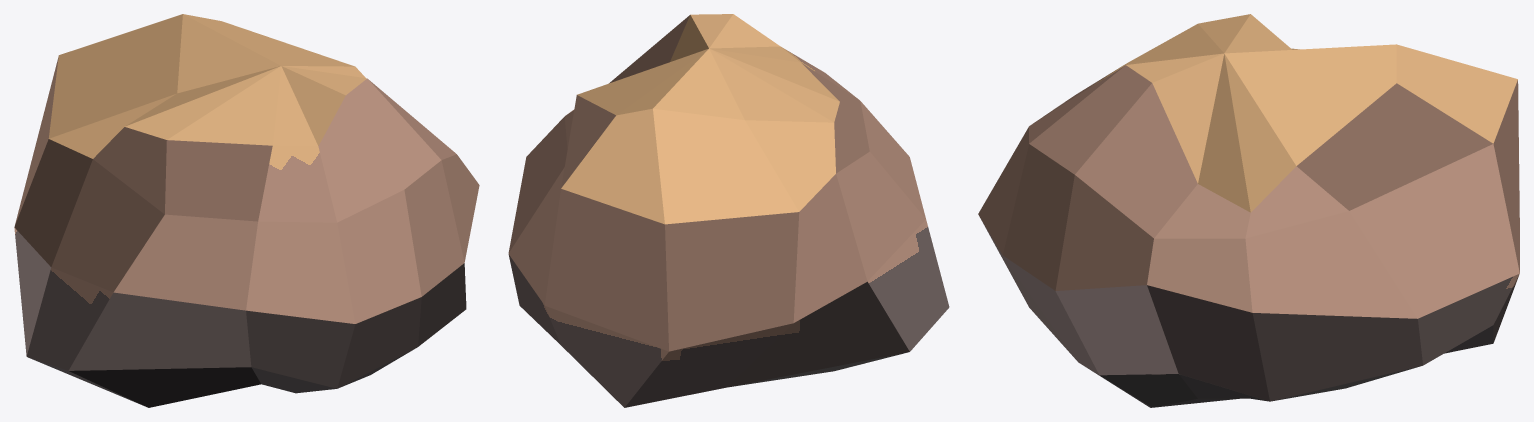
Rendered from Asteroid.gltf.
The picture shows the model from 3 angles, left to right: view 1: azimuth 30°, elevation 25°; view 2: azimuth 150°, elevation 25°; view 3: azimuth 270°, elevation 25°; orthographic projection. The views are drawn at different scales.
Parts seen in each view (by area): view 1: sphere; view 2: sphere; view 3: sphere.
Boxes of the visible parts, x1=… form: sphere: x1=14, y1=14, x2=479, y2=407; sphere: x1=508, y1=14, x2=949, y2=407; sphere: x1=978, y1=14, x2=1519, y2=407.
Bounding box in the file's own units: 102 × 74.44 × 106.
1 material, 1 textured.
